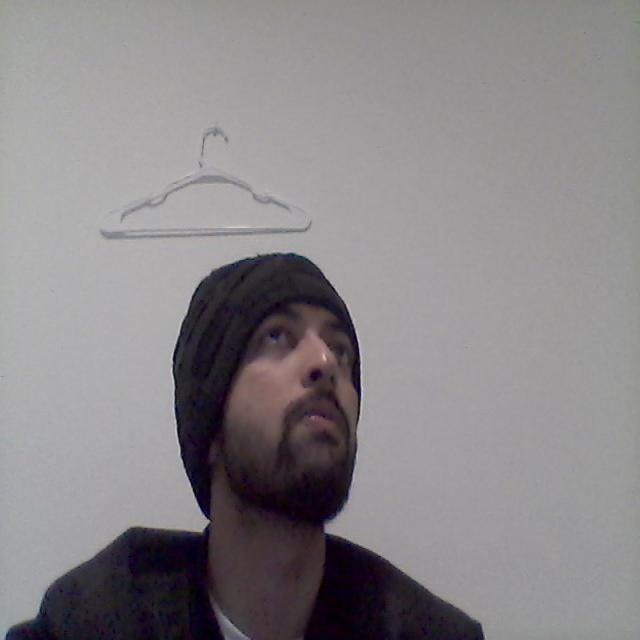cap: (162, 249, 381, 480)
